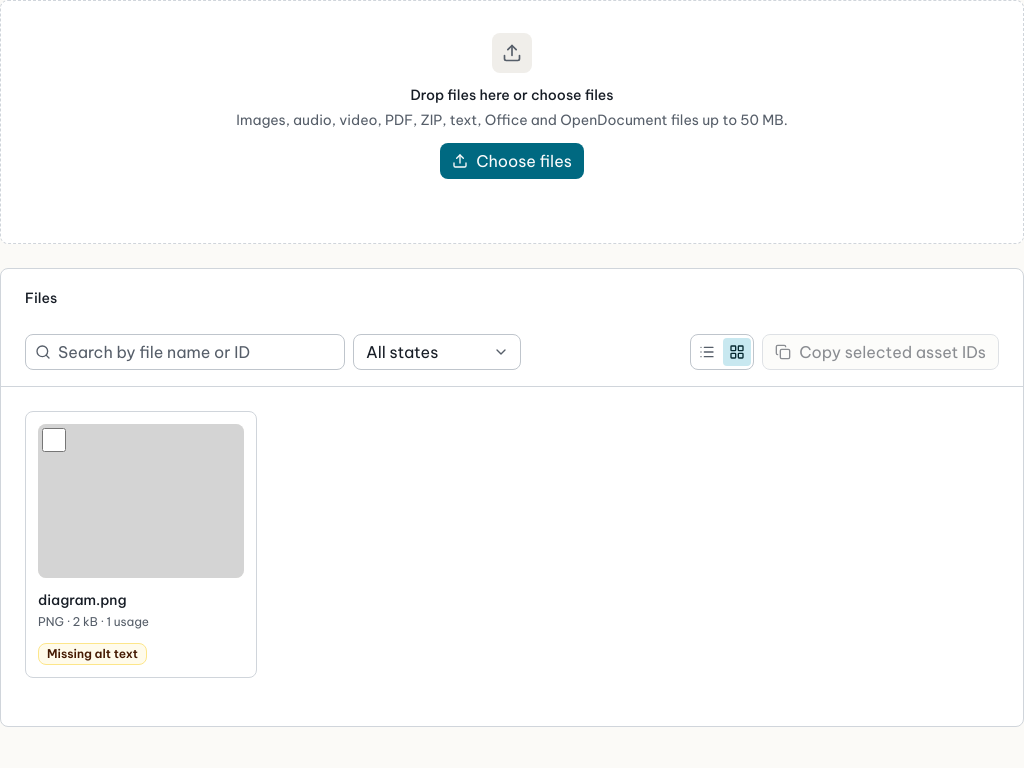
Test: MediaLibrary › keeps an alt edit local and pauses retry after a revision conflict
Click the button with aria-label "Open details for diagram.png" at (141, 528), box [38, 424, 244, 631]
(page scrolled)
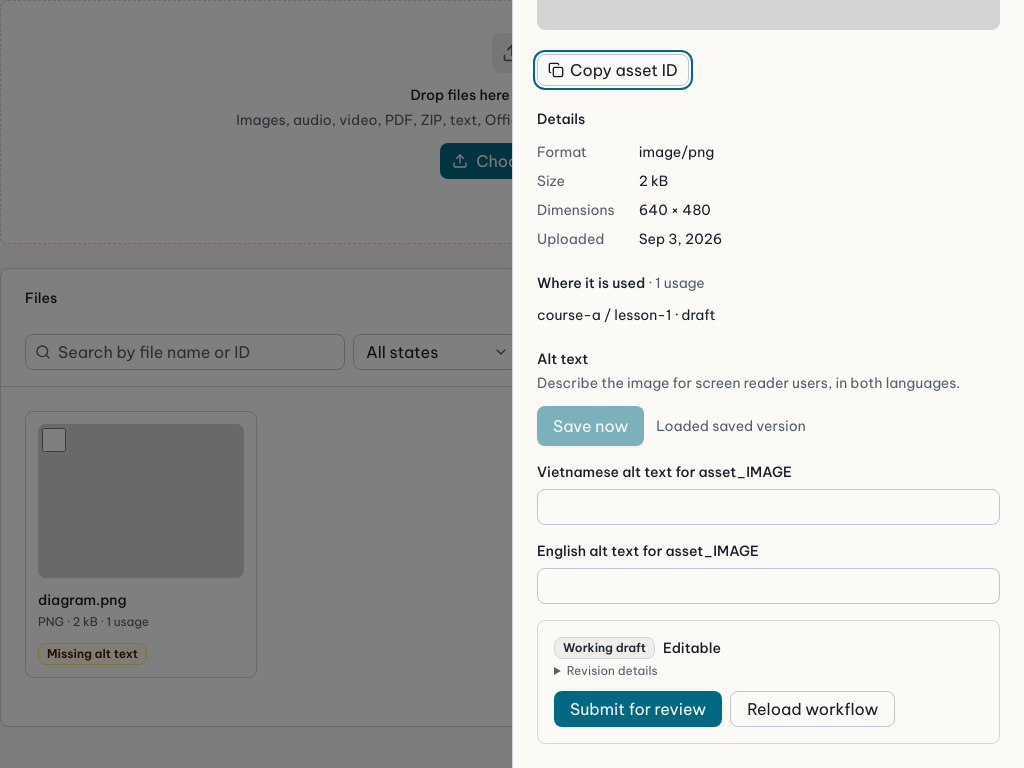
Type "Sơ đồ" into the field labelled "Vietnamese alt text for asset_IMAGE" at (768, 507), box [537, 489, 1000, 525]
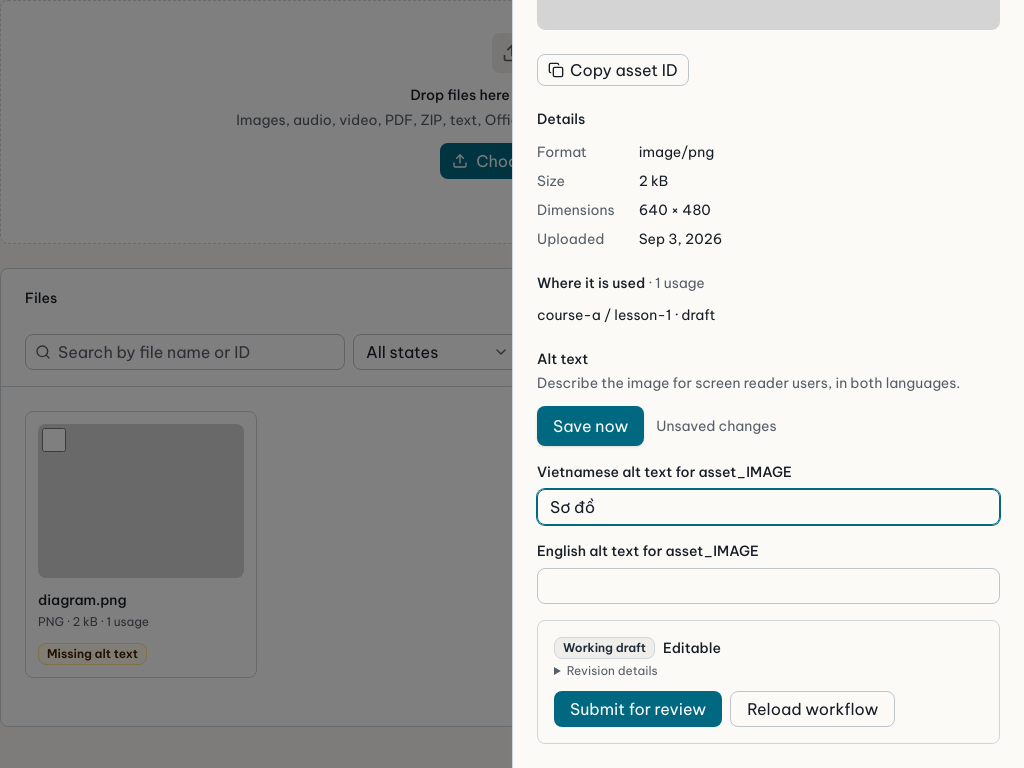
Click the button "Save now" at (591, 426), box [537, 406, 644, 446]
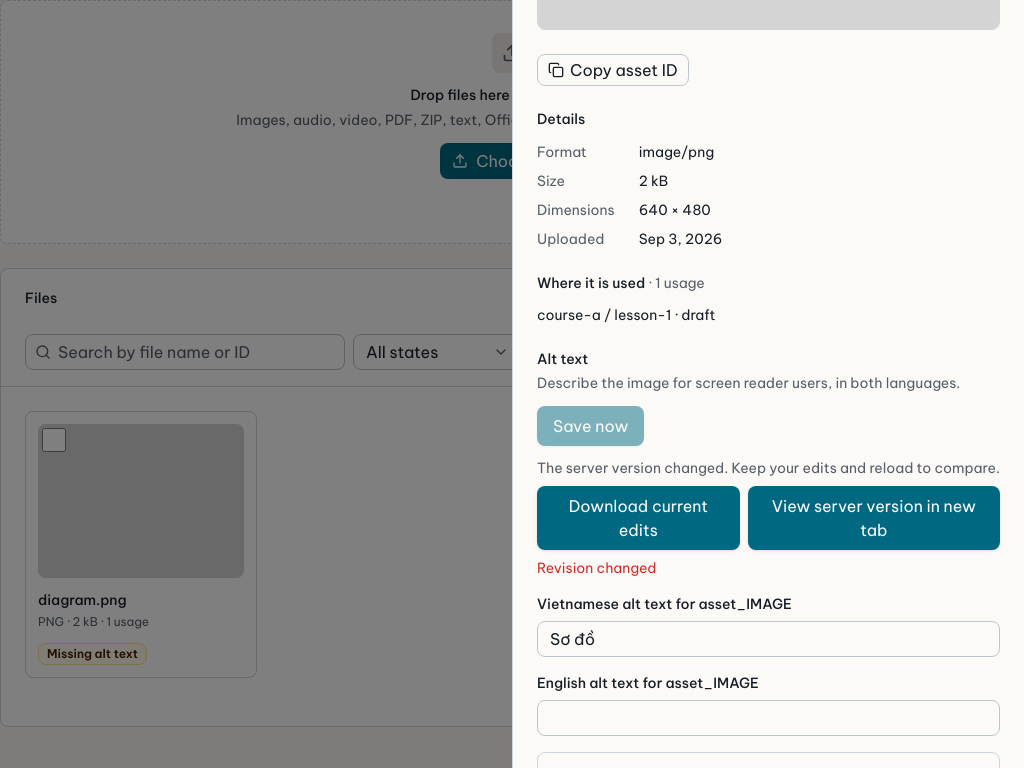
Now the message "Revision changed" is shown, box [537, 559, 656, 577]
Now the button "Save now" is disabled, box [537, 406, 644, 446]
